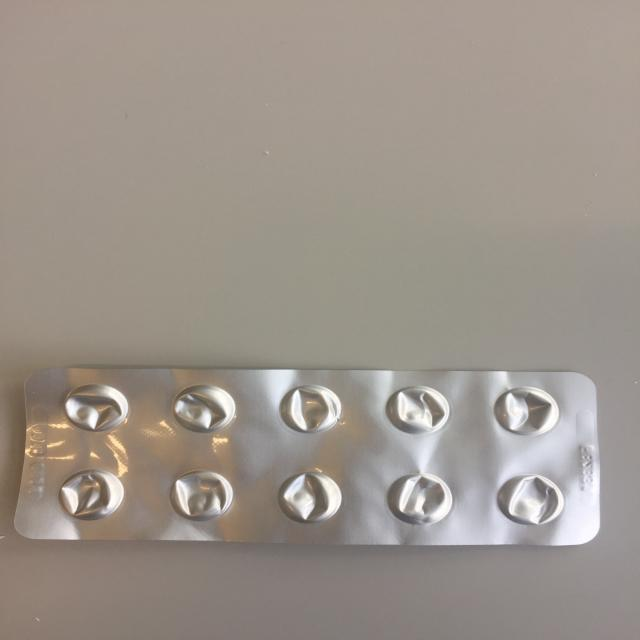Empty: (382, 471, 458, 528), (54, 466, 127, 522), (276, 382, 350, 437), (494, 471, 566, 527), (169, 380, 241, 436), (490, 385, 564, 438), (274, 471, 346, 525), (62, 383, 136, 434), (383, 382, 452, 436), (168, 468, 235, 523)
